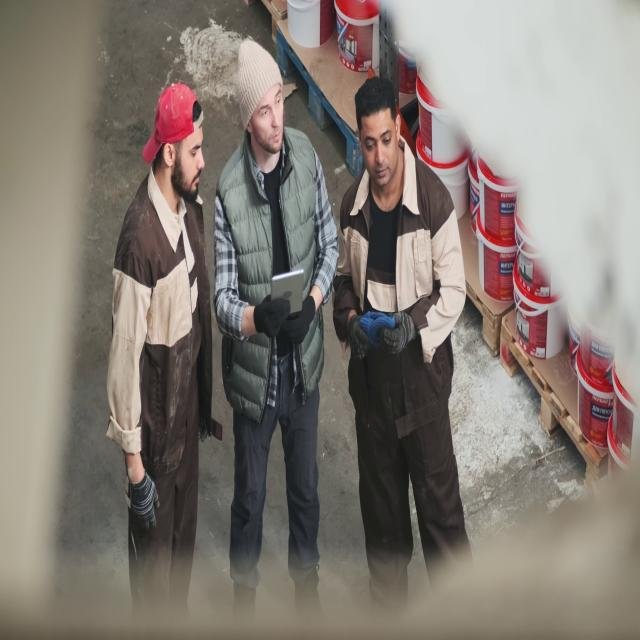gloved: (348, 309, 395, 361), (124, 471, 160, 538), (378, 310, 417, 355), (281, 295, 316, 345), (253, 294, 290, 338), (348, 314, 372, 361)
